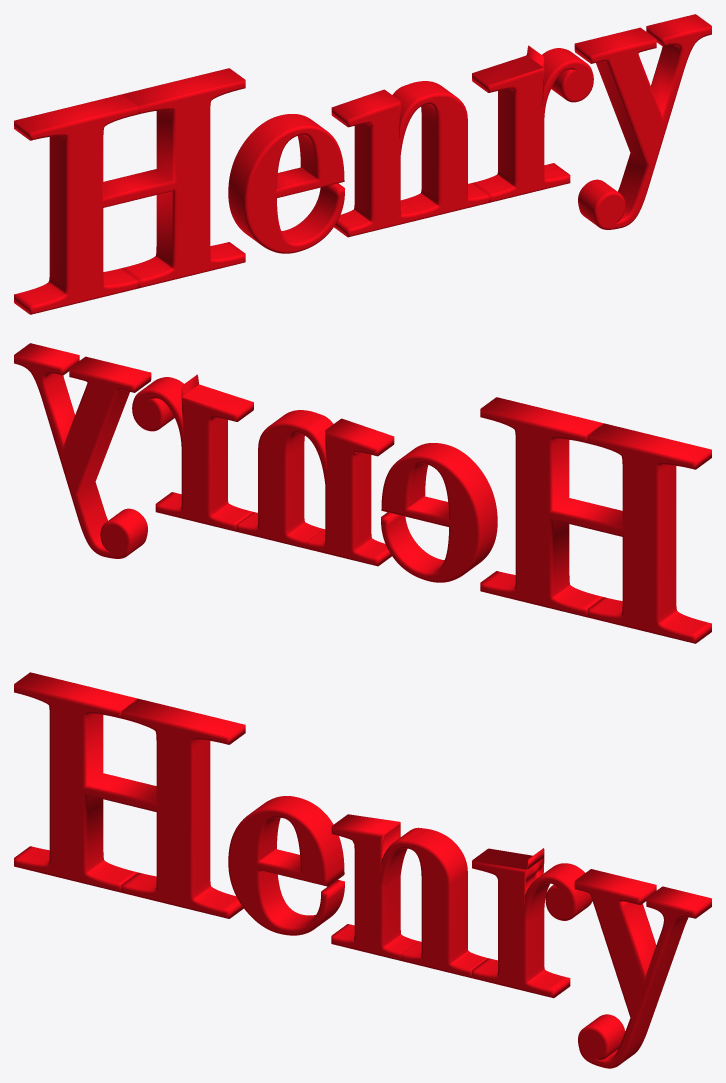
The model's file is henry.glb.
3 views of the same model, one above another, from view 1: azimuth 30°, elevation 25°; view 2: azimuth 150°, elevation 25°; view 3: azimuth 330°, elevation 25° (orthographic).
Visible parts, largest first — view 1: Text; view 2: Text; view 3: Text.
Part boxes in pixels (x1=…): Text: x1=14, y1=14, x2=711, y2=314; Text: x1=14, y1=343, x2=711, y2=643; Text: x1=14, y1=672, x2=711, y2=1068.
Bounding box in the file's own units: 2.54 × 0.854 × 0.12.
